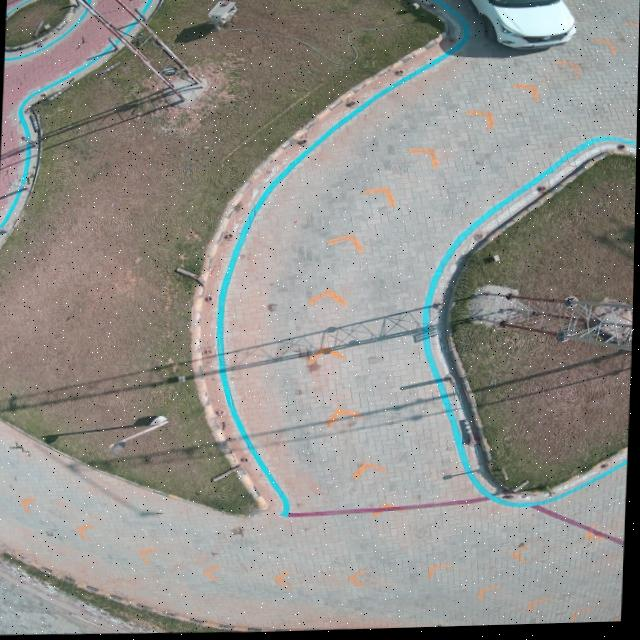car: (469, 0, 576, 53)
